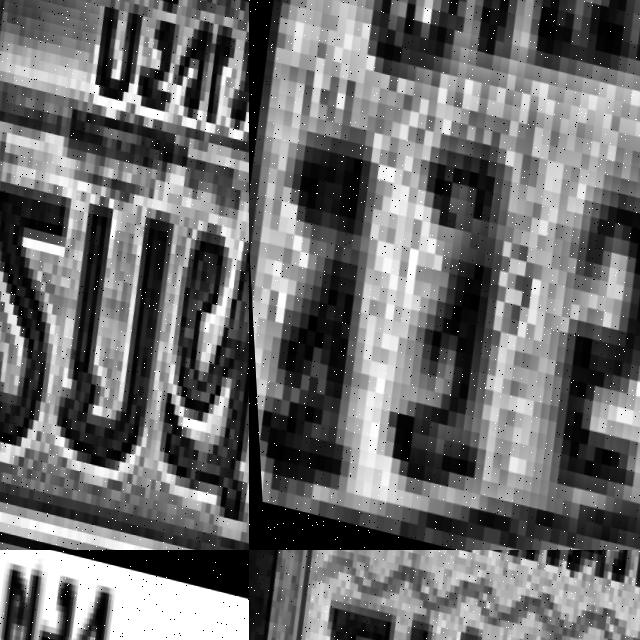license-plate: (249, 0, 640, 550), (0, 0, 249, 550), (249, 550, 640, 640), (0, 550, 249, 640)
